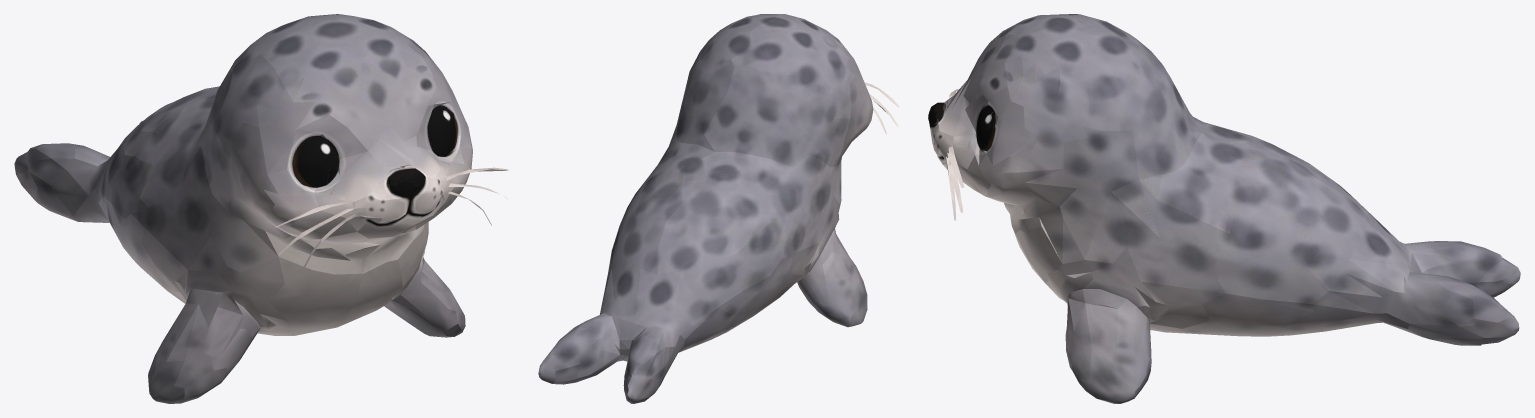
Rendered from toy-seal.glb.
3 renders of one model, left to right at view 1: azimuth 30°, elevation 25°; view 2: azimuth 150°, elevation 25°; view 3: azimuth 270°, elevation 25°, orthographic. The views are drawn at different scales.
Visible parts, largest first — view 1: Prize_Batch0; view 2: Prize_Batch0; view 3: Prize_Batch0.
Boxes of the visible parts, x1=… form: Prize_Batch0: x1=14, y1=14, x2=508, y2=403; Prize_Batch0: x1=538, y1=14, x2=899, y2=403; Prize_Batch0: x1=928, y1=14, x2=1520, y2=403.
Size of the model in its own units: 0.0167 by 0.0189 by 0.032.
1 material, 1 textured.
